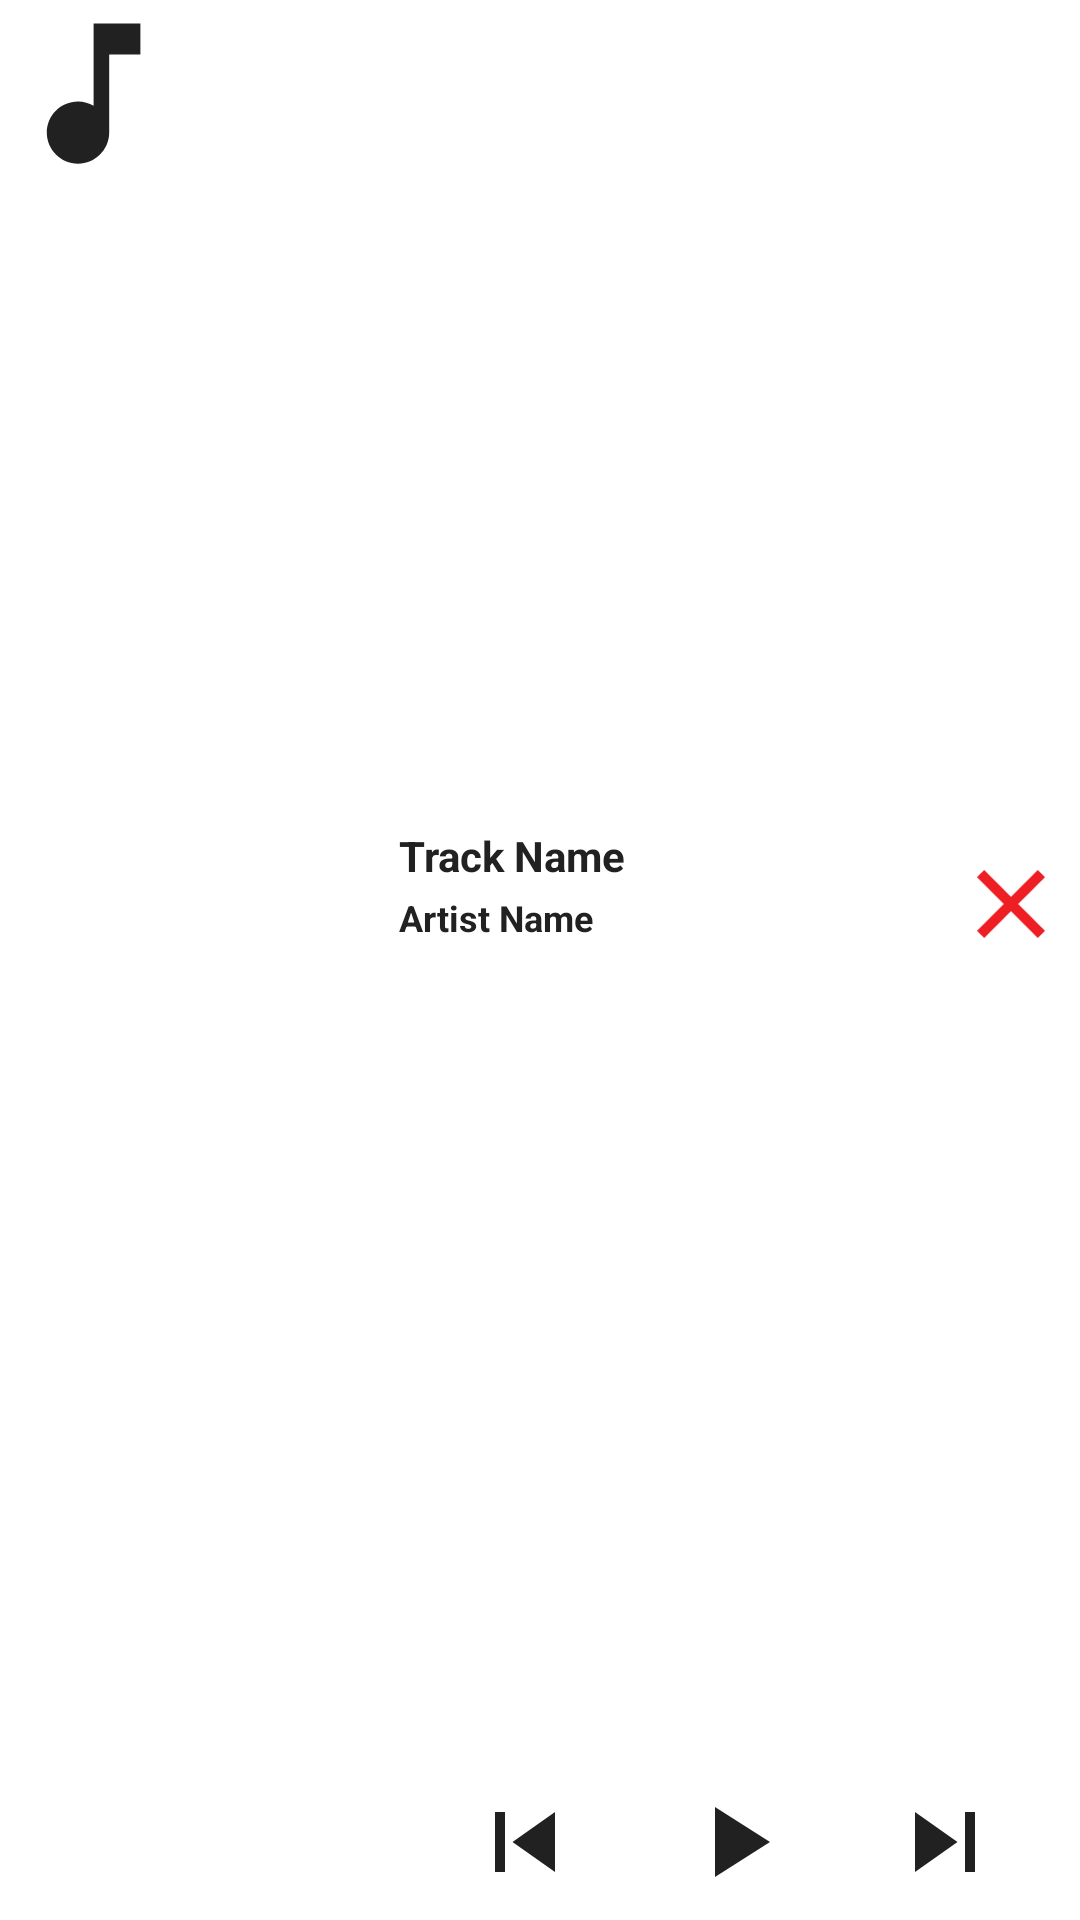

Named icons in this screenshot (1080x1920) and their centers, (x=x, y=y):
Album Icon: (x=93, y=93)
Next Track: (x=945, y=1842)
Play / Pause: (x=742, y=1842)
Previous Track: (x=525, y=1842)
Stop Service: (x=1011, y=904)
